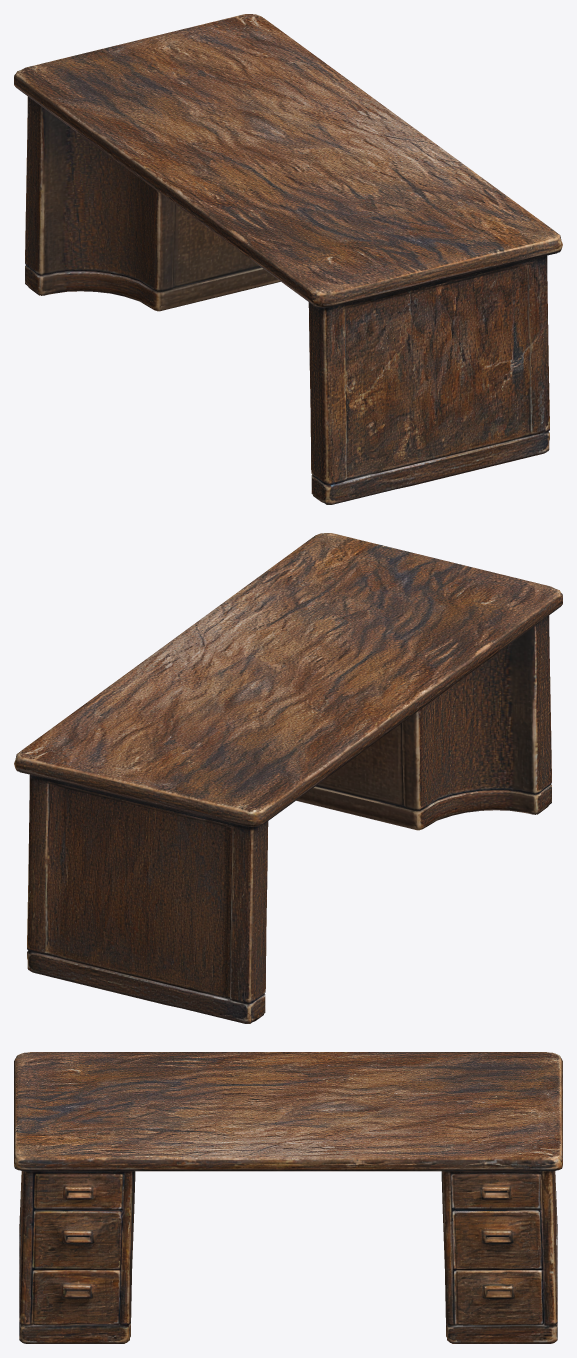
The model's file is ReceptionDeskOpen.fbx.
The picture shows the model from 3 angles, top to bottom: view 1: azimuth 30°, elevation 25°; view 2: azimuth 150°, elevation 25°; view 3: azimuth 270°, elevation 25°; orthographic projection. The views are drawn at different scales.
Parts seen in each view (by area): view 1: tripo_node_81e61a09-faab-4b69-a983-1c267e347818; view 2: tripo_node_81e61a09-faab-4b69-a983-1c267e347818; view 3: tripo_node_81e61a09-faab-4b69-a983-1c267e347818.
Boxes of the visible parts, left/top/right/bottom form: tripo_node_81e61a09-faab-4b69-a983-1c267e347818: left=14, top=14, right=562, bottom=504; tripo_node_81e61a09-faab-4b69-a983-1c267e347818: left=14, top=533, right=562, bottom=1023; tripo_node_81e61a09-faab-4b69-a983-1c267e347818: left=14, top=1052, right=562, bottom=1343.
Bounding box in the file's own units: 46.38 × 38.55 × 100.
1 material, 1 textured.
